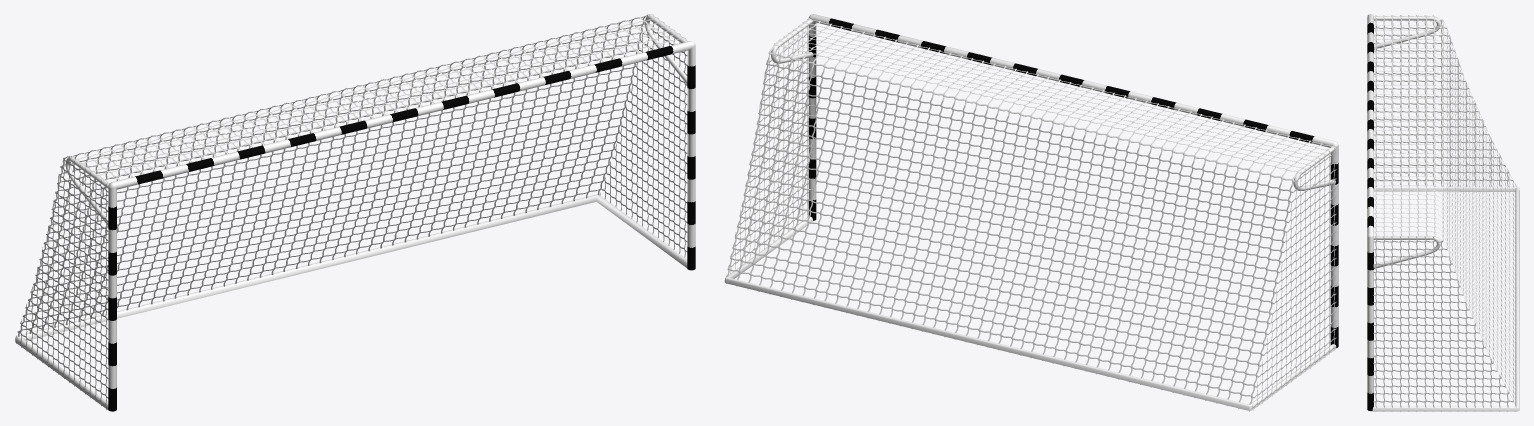
Rendered from Goal.FBX.
3 views of the same model, side by side, from view 1: azimuth 30°, elevation 25°; view 2: azimuth 150°, elevation 25°; view 3: azimuth 270°, elevation 25° (orthographic). The views are drawn at different scales.
Visible parts, largest first — view 1: Goal; view 2: Goal; view 3: Goal.
Part boxes in pixels (x1,y1,x2,y2): Goal: [15, 14, 695, 411]; Goal: [724, 14, 1338, 411]; Goal: [1367, 14, 1519, 411].
Size of the model in its own units: 1075 by 401 by 311.
